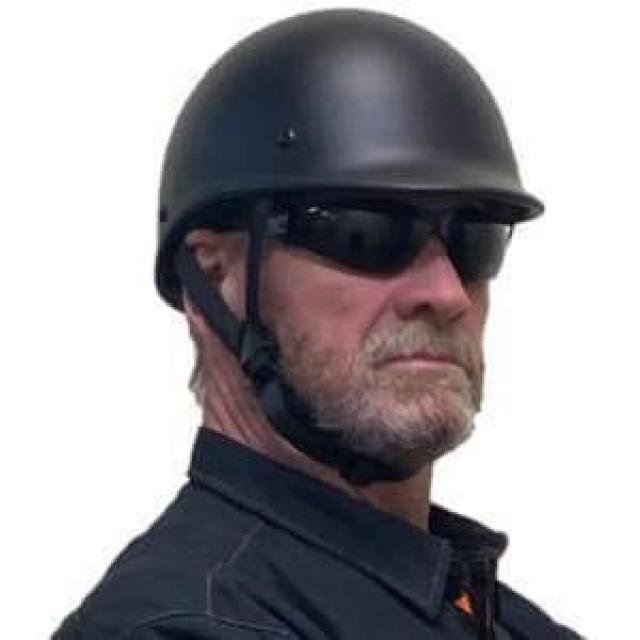Helmet: (153, 6, 546, 466)
